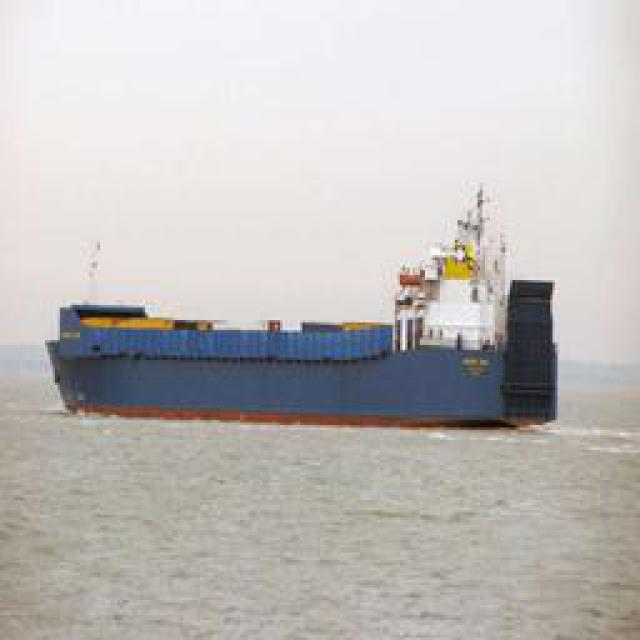Ship: (34, 224, 572, 442)
